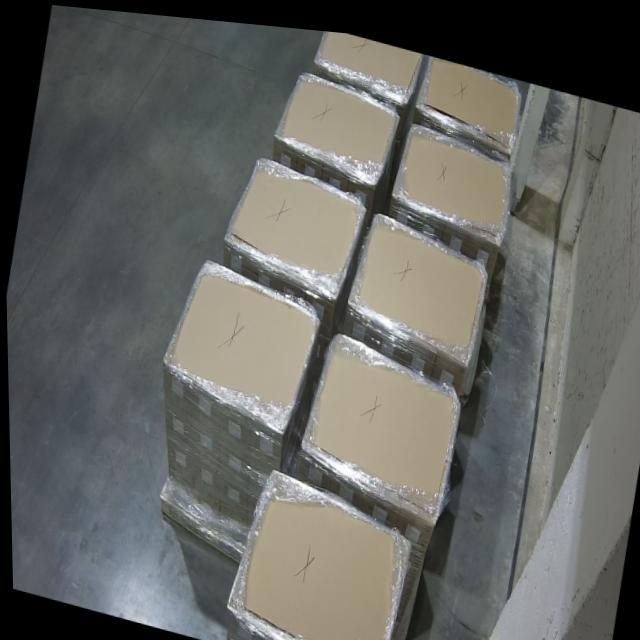pallet: (222, 464, 412, 640), (298, 324, 458, 509), (163, 251, 318, 428), (347, 204, 486, 351), (225, 149, 362, 287), (394, 114, 512, 236), (274, 63, 397, 177), (417, 47, 521, 140), (313, 25, 423, 93)
